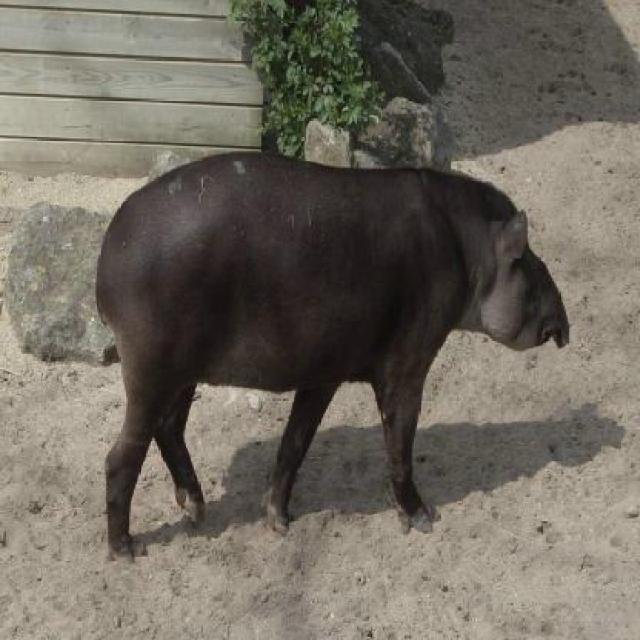Boar: (94, 150, 569, 564)
